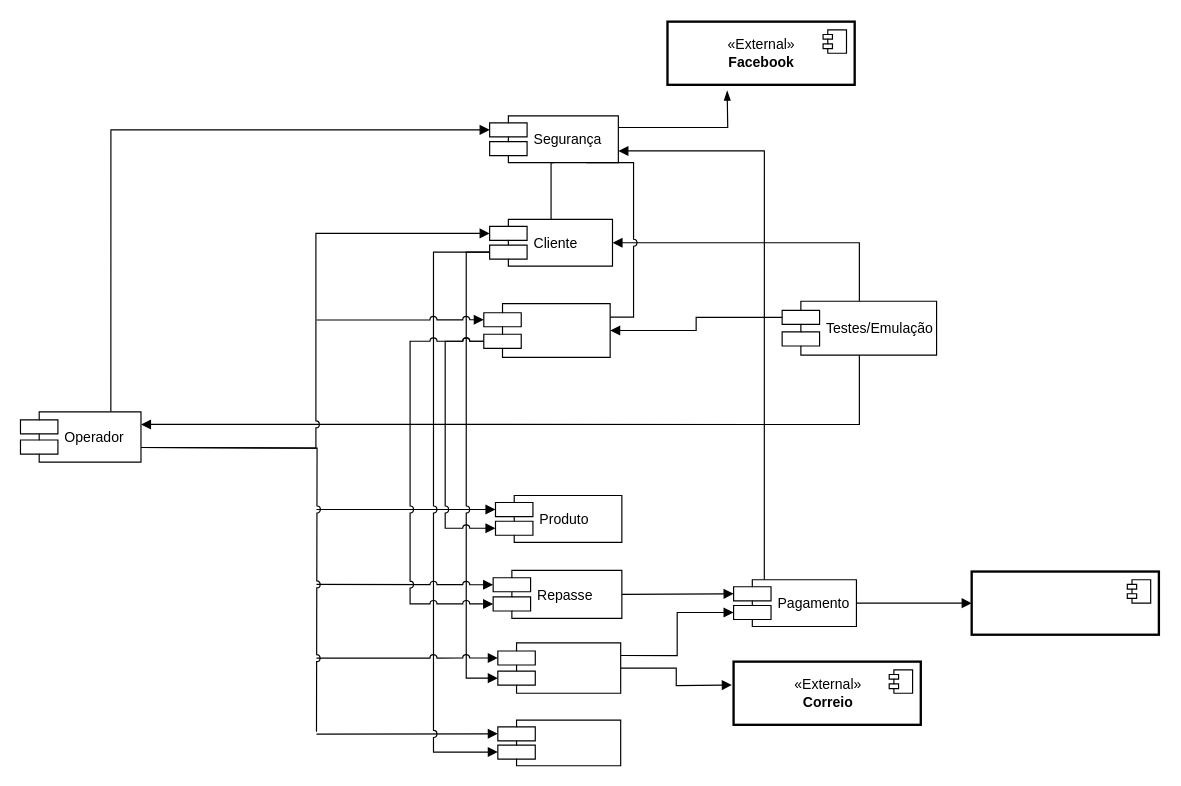
Image size: 1181x786. Some labels were removed from this diagram. The shapes that lost their labels are listed below. From the top down, each one's centre as x and y in pixels, then its label:
At pixel 546 329: "Lojista".
At pixel 1064 602: "«External» Intermediador Pagamento".
At pixel 559 667: "Pedido".
At pixel 559 742: "SAC".
